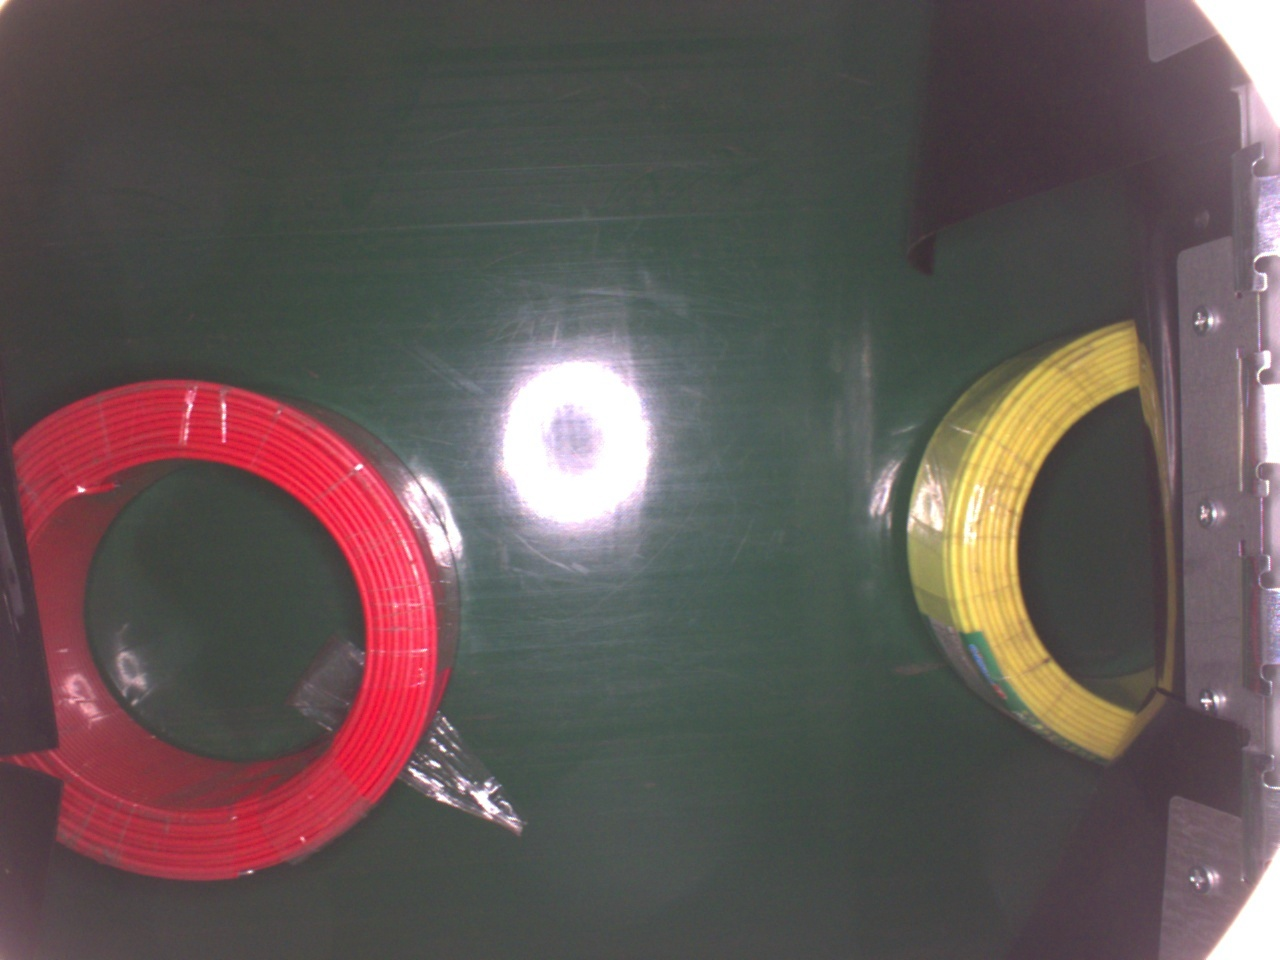red: (0, 376, 467, 882)
yellow: (907, 313, 1143, 761)
